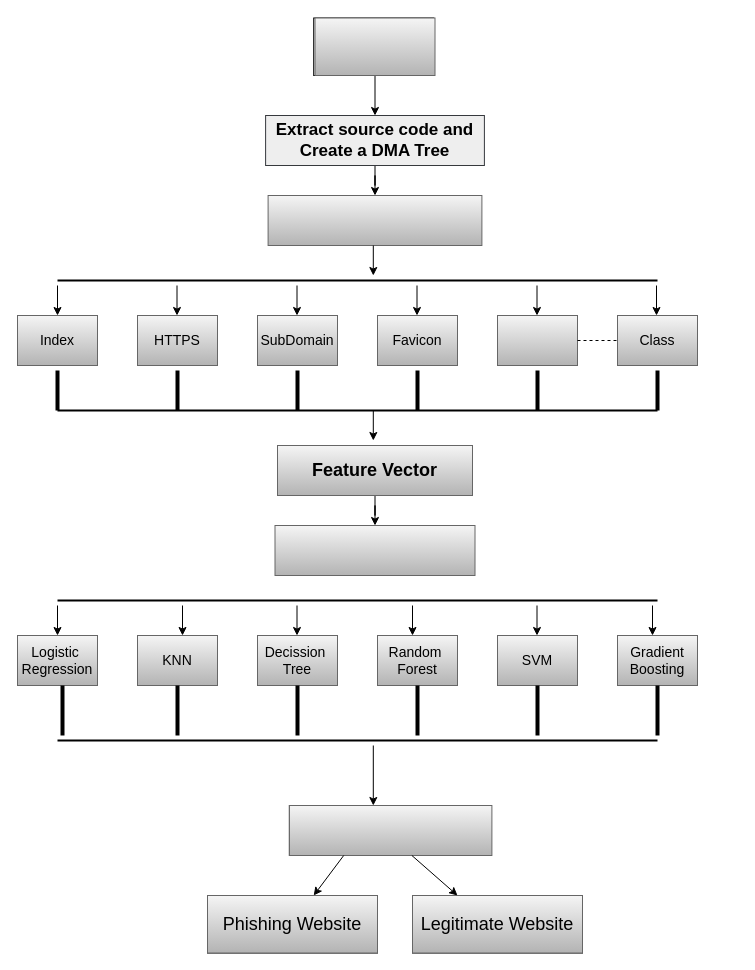
Some shapes in this 755 by 970 pixel diagram are drawn without their labels. Each missing label, with the box of its shape:
Age of Domain: (496, 314, 578, 366)
Classification Model: (274, 524, 475, 576)
Prediction: (288, 804, 492, 856)
Web crawler and Feature Extraction: (267, 194, 482, 246)
Webpage: (314, 17, 435, 76)
